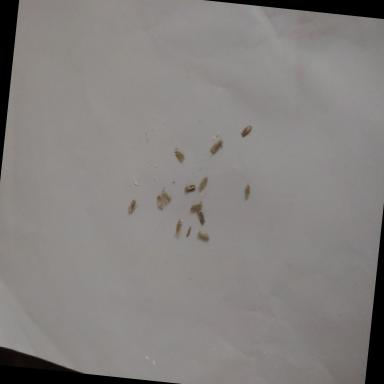pbw: (210, 138, 224, 156), (240, 124, 253, 140), (160, 187, 172, 203), (196, 176, 208, 192), (196, 209, 206, 225), (174, 219, 182, 238), (173, 150, 185, 162), (155, 194, 164, 210), (128, 200, 138, 214), (197, 230, 210, 240), (243, 184, 250, 202), (190, 202, 202, 212), (184, 184, 196, 193), (186, 226, 192, 238)
